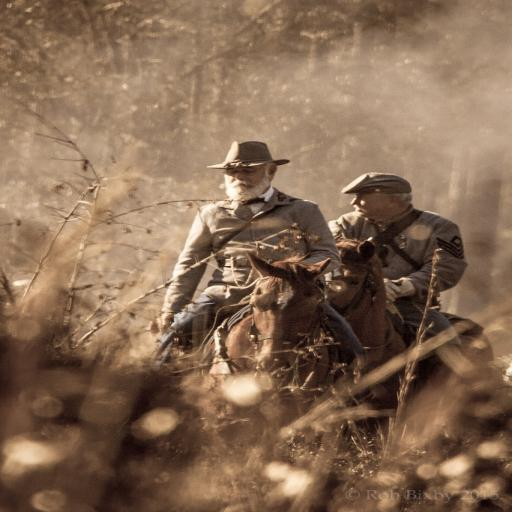horse: (320, 236, 494, 408), (207, 250, 354, 422)
